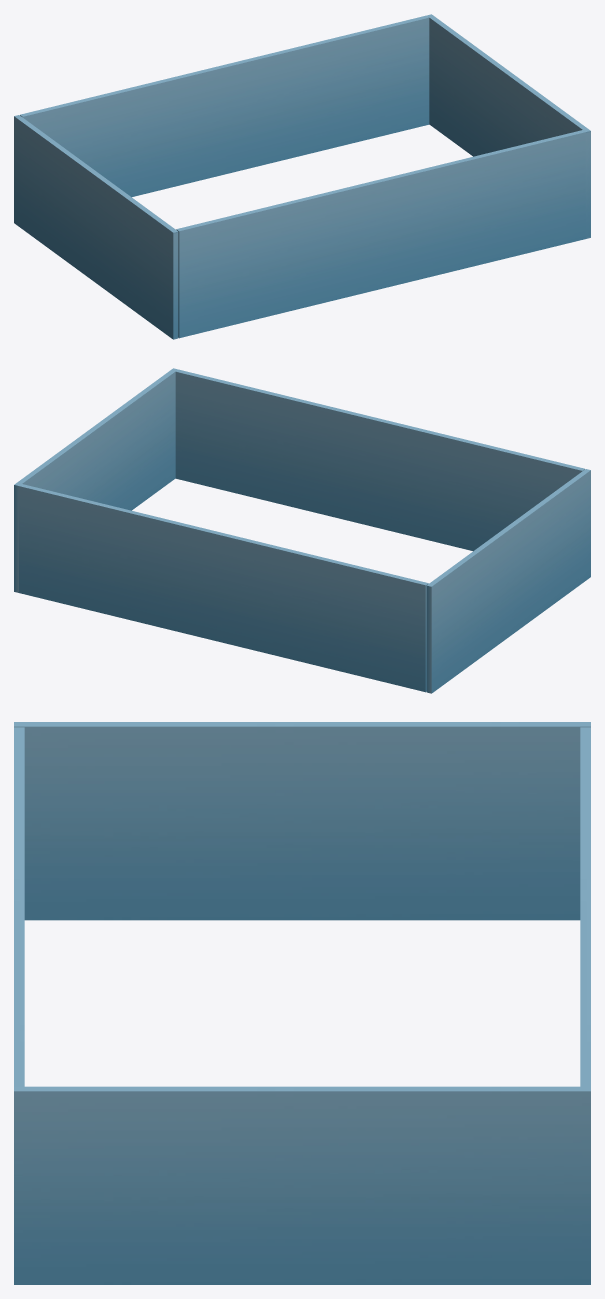
File: walls.dae
The picture shows the model from 3 angles, top to bottom: view 1: azimuth 30°, elevation 25°; view 2: azimuth 150°, elevation 25°; view 3: azimuth 270°, elevation 25°; orthographic projection. The views are drawn at different scales.
Visible parts, largest first — view 1: south_wall, north_wall, east_wall, east_wall1; view 2: north_wall, south_wall, east_wall, east_wall1; view 3: east_wall1, east_wall, south_wall, north_wall.
Boxes of the visible parts, x1=… form: south_wall: x1=176, y1=130, x2=585, y2=338; north_wall: x1=20, y1=15, x2=429, y2=197; east_wall: x1=14, y1=115, x2=178, y2=339; east_wall1: x1=427, y1=14, x2=590, y2=238; north_wall: x1=19, y1=484, x2=428, y2=692; south_wall: x1=175, y1=369, x2=584, y2=551; east_wall: x1=426, y1=469, x2=590, y2=693; east_wall1: x1=14, y1=368, x2=177, y2=592; east_wall1: x1=14, y1=1086, x2=590, y2=1284; east_wall: x1=14, y1=722, x2=590, y2=920; south_wall: x1=14, y1=727, x2=24, y2=1086; north_wall: x1=580, y1=727, x2=590, y2=1086.
Bounding box in the file's own units: 8.17 × 5.4 × 2.
Materials: 1 (1 with a texture image).
